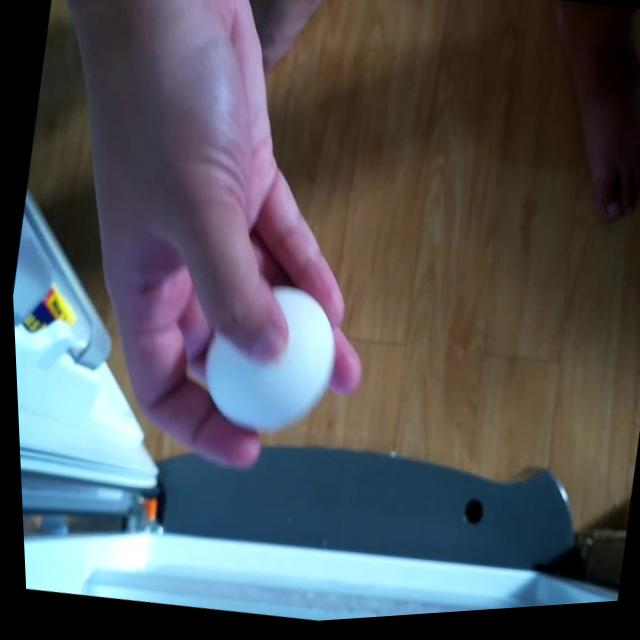egg: (182, 269, 348, 453)
